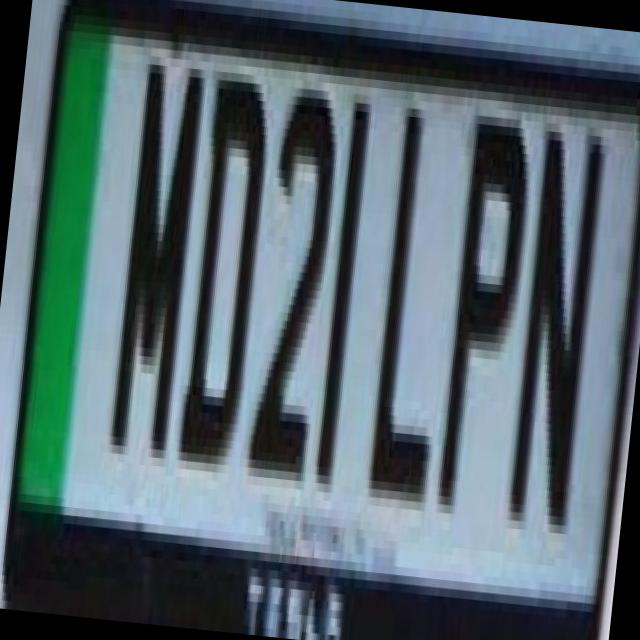2: (240, 61, 348, 465)
D: (169, 53, 278, 466)
L: (289, 50, 439, 491)
M: (94, 12, 245, 462)
N: (497, 113, 615, 518)
P: (422, 80, 540, 502)
